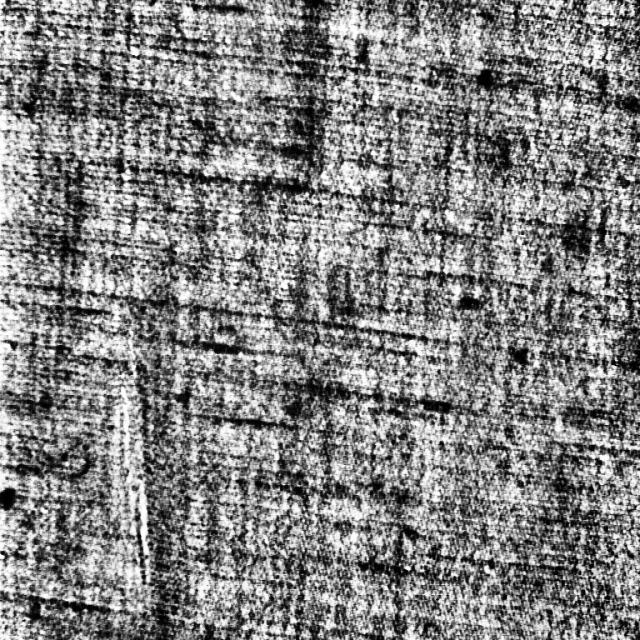Stitch: (111, 364, 157, 598)
